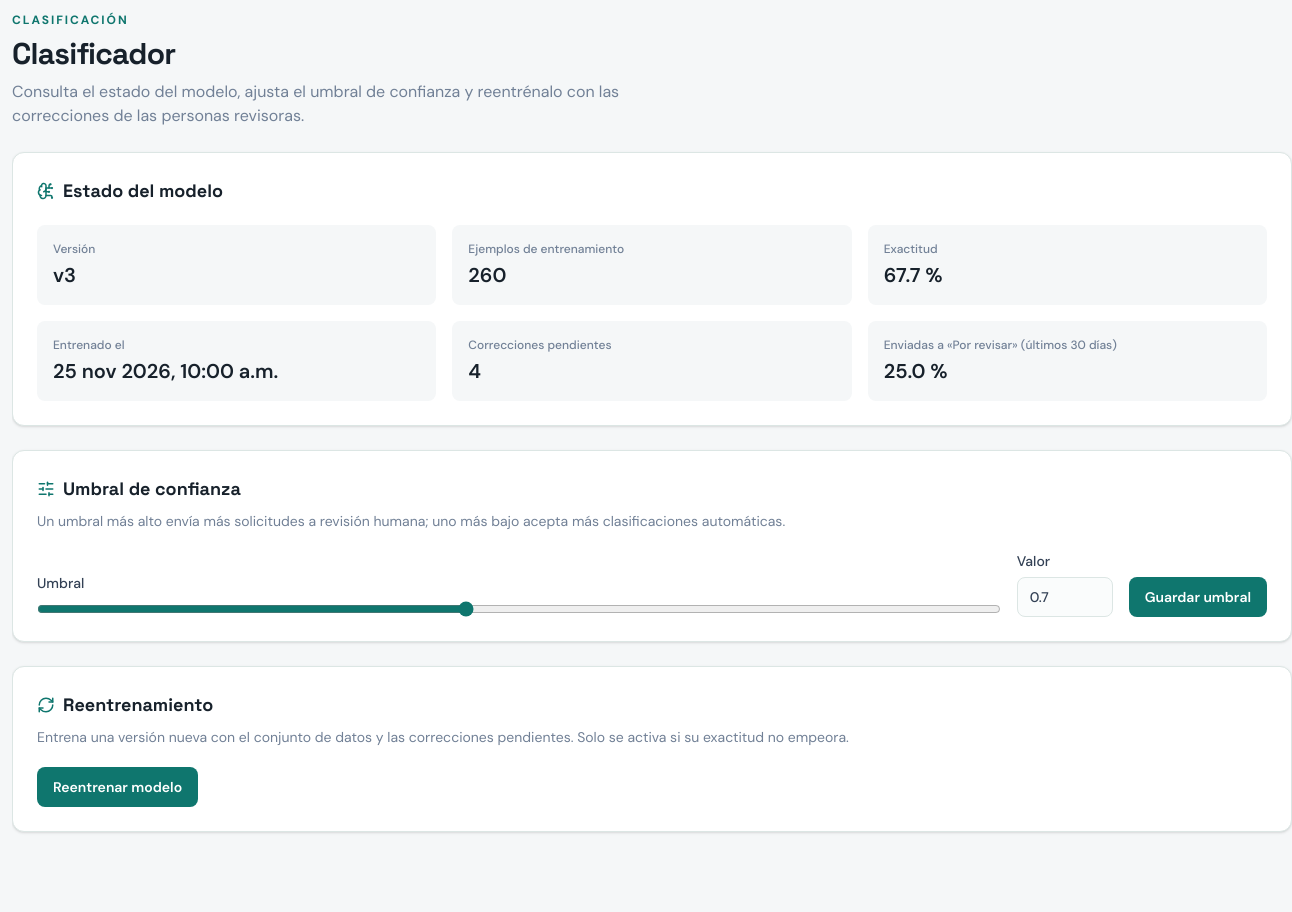
Test: ClasificadorPage (S5-12, HU-02.2, HU-12.1, HU-12.2) › guarda el umbral elegido y confirma el cambio «de X a Y»
Set the slider labelled "Umbral" to "0.85" at (782, 609), box [37,601,1001,617]
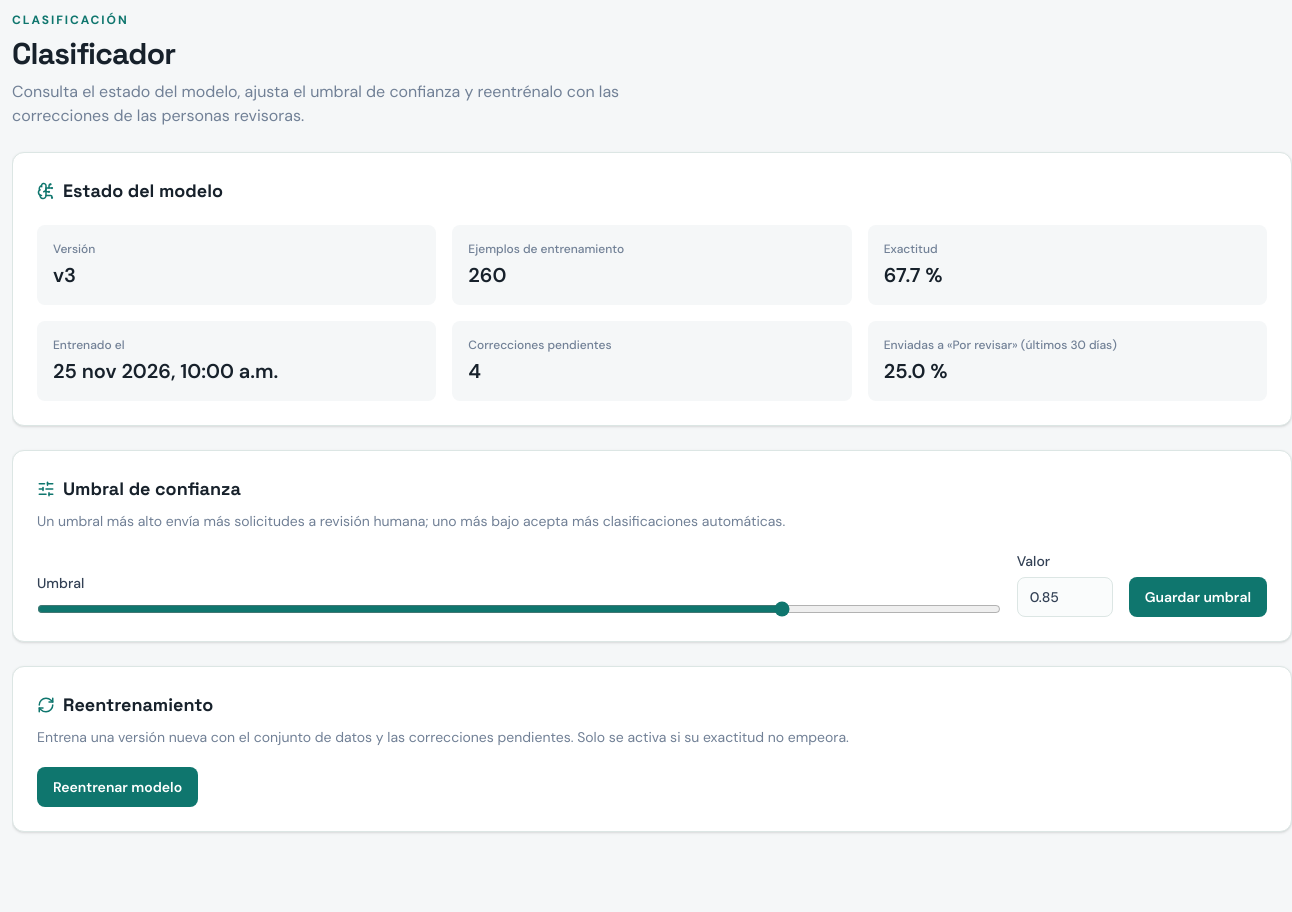
Check: the number field labelled "Valor" holds "0.85", box [1017,577,1113,617]
Click the button "Guardar umbral" at (1198, 597), box [1129,577,1267,617]
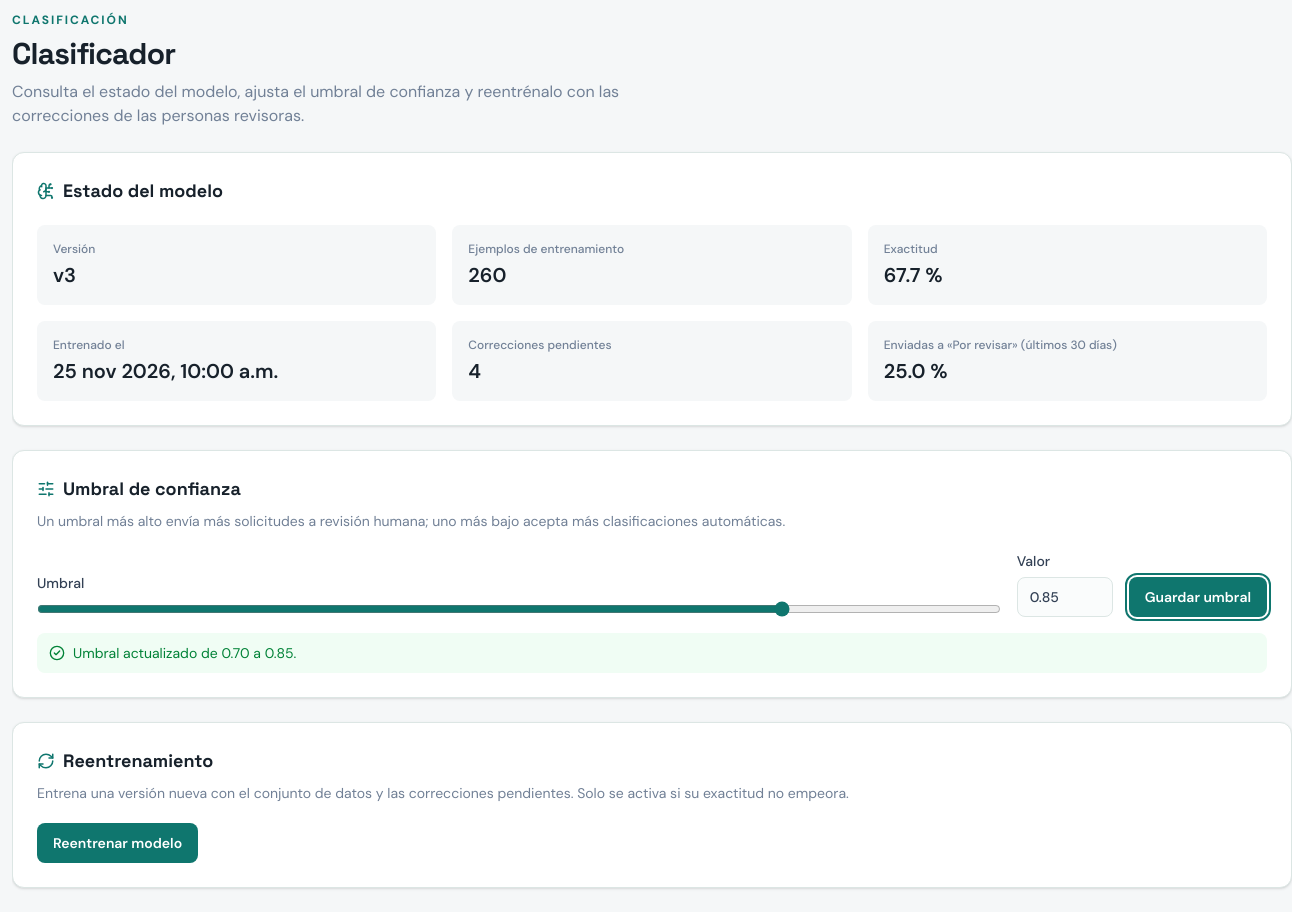
Check: the text "más solicitudes a revisión" is shown, box [37,512,785,530]
Check: the text "Umbral actualizado de 0.70 a 0.85." is shown, box [37,633,1267,673]
